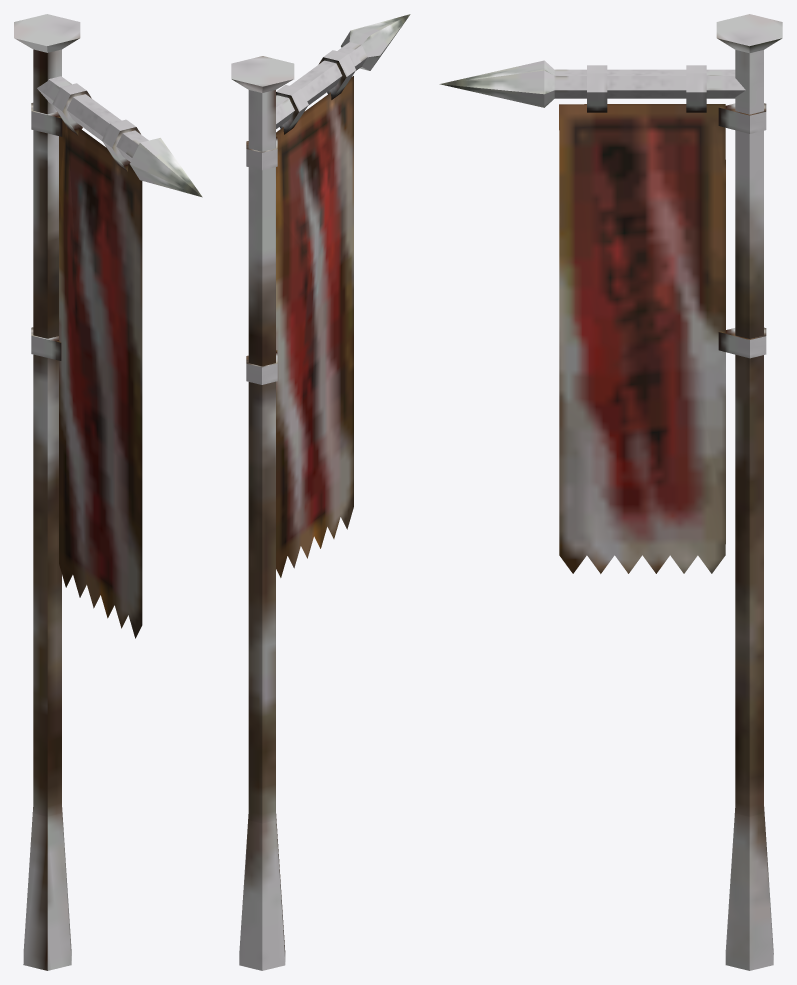
File: general_obj_flag.glb
The picture shows the model from 3 angles, left to right: view 1: azimuth 30°, elevation 25°; view 2: azimuth 150°, elevation 25°; view 3: azimuth 270°, elevation 25°; orthographic projection. The views are drawn at different scales.
Parts seen in each view (by area): view 1: Object03; view 2: Object03; view 3: Object03.
Boxes of the visible parts, x1,y1,x2,y2 form: Object03: (14,14,202,970); Object03: (231,14,410,970); Object03: (439,14,782,970).
Bounding box in the file's own units: 0.27 × 3.63 × 1.22.
Materials: 1 (1 with a texture image).
